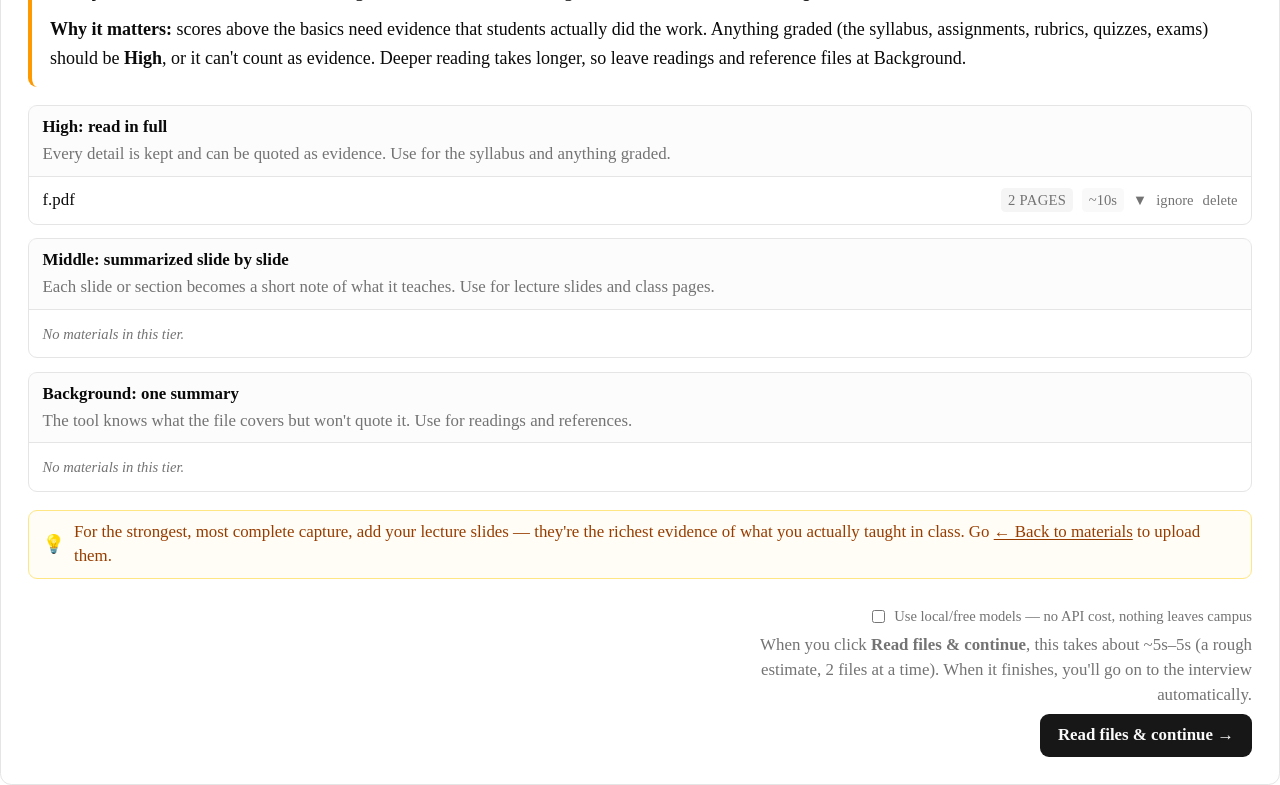
Test: TriageStep completion gate › caps cooldown polling at ~5 minutes, then shows a "still reading" message and re-enables the button
(page scrolled)
Click the button "Read files & continue →". click: (1146, 736)
box: [1040, 714, 1252, 757]
Wait 360000 ms
(page scrolled)
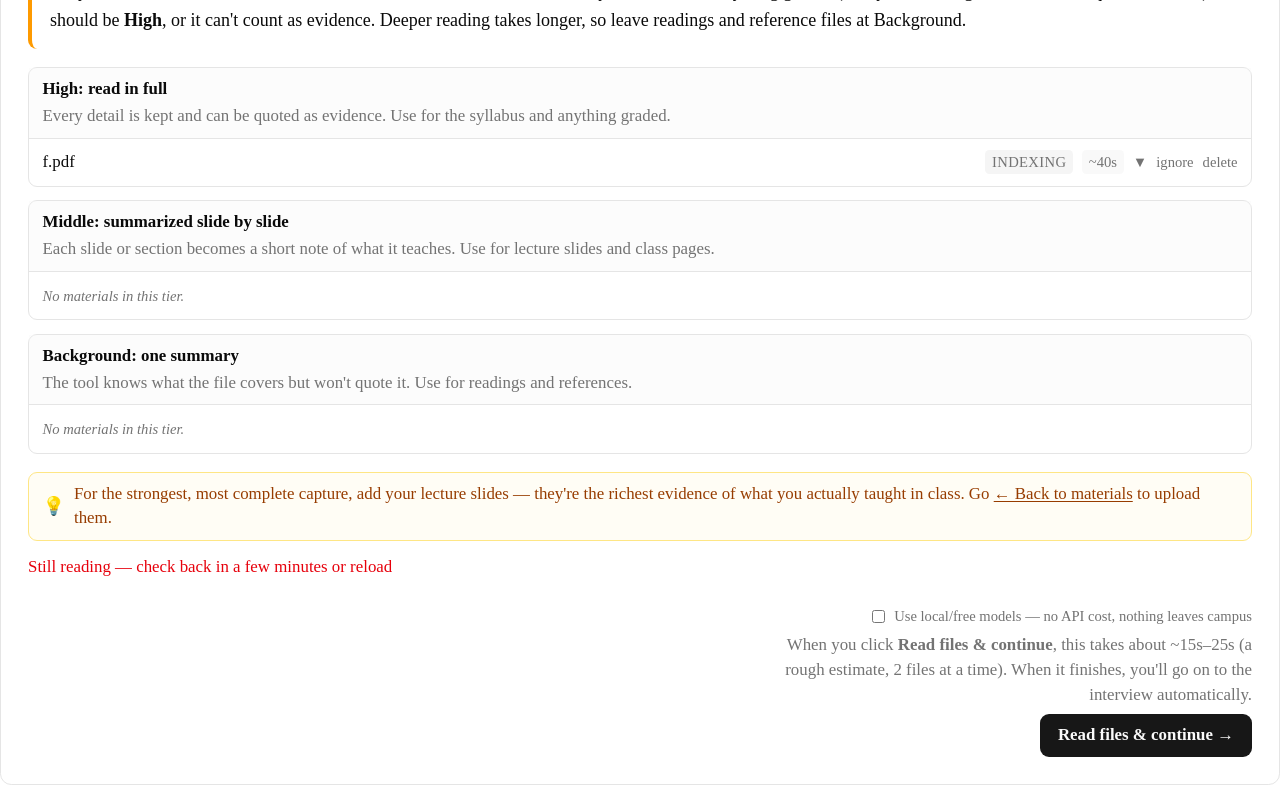
expect the text "Still reading — check back in a few minutes or reload" is shown: met, box [28, 557, 392, 576]
